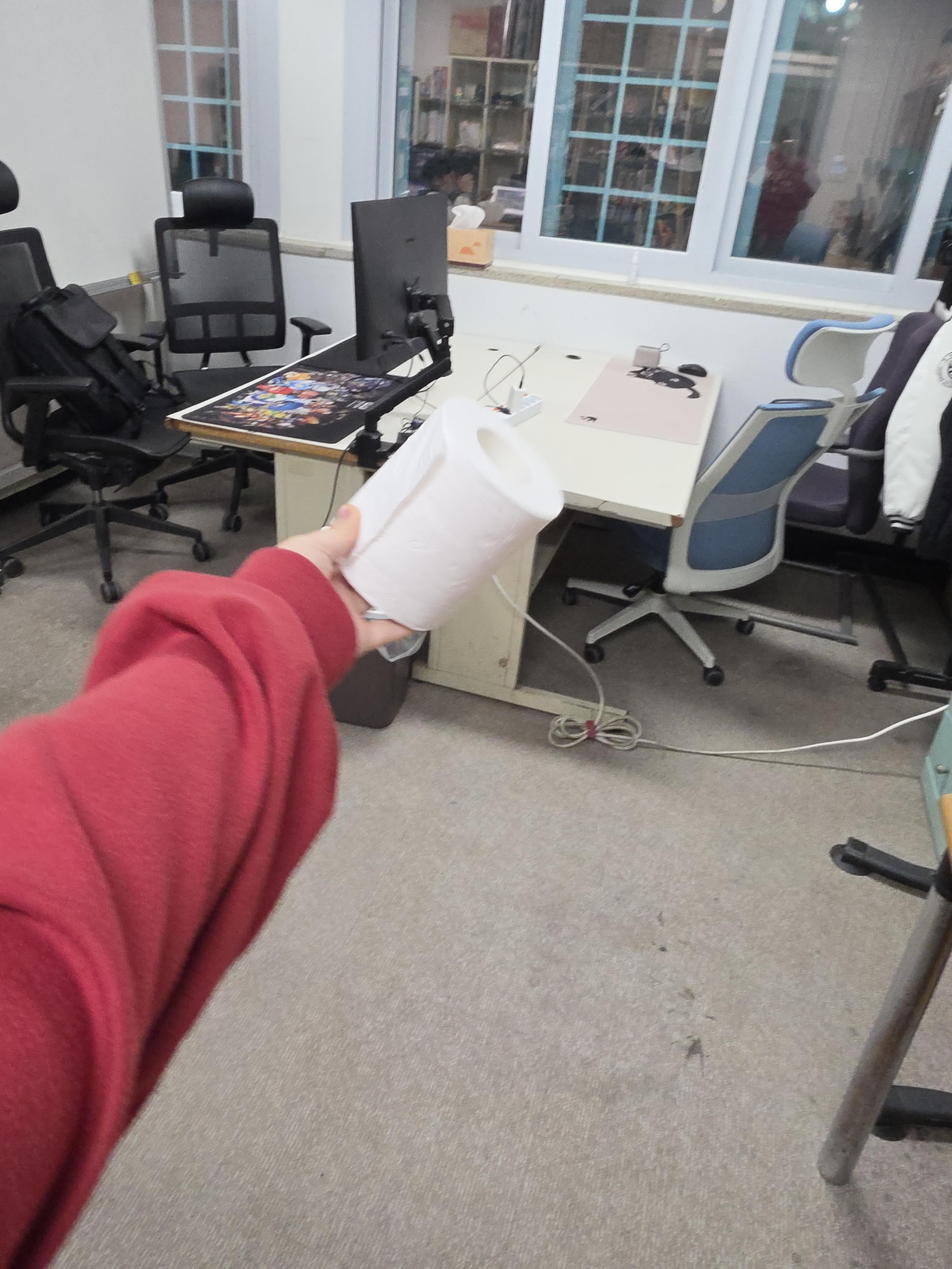tissue: (338, 395, 565, 633), (447, 204, 495, 268)
